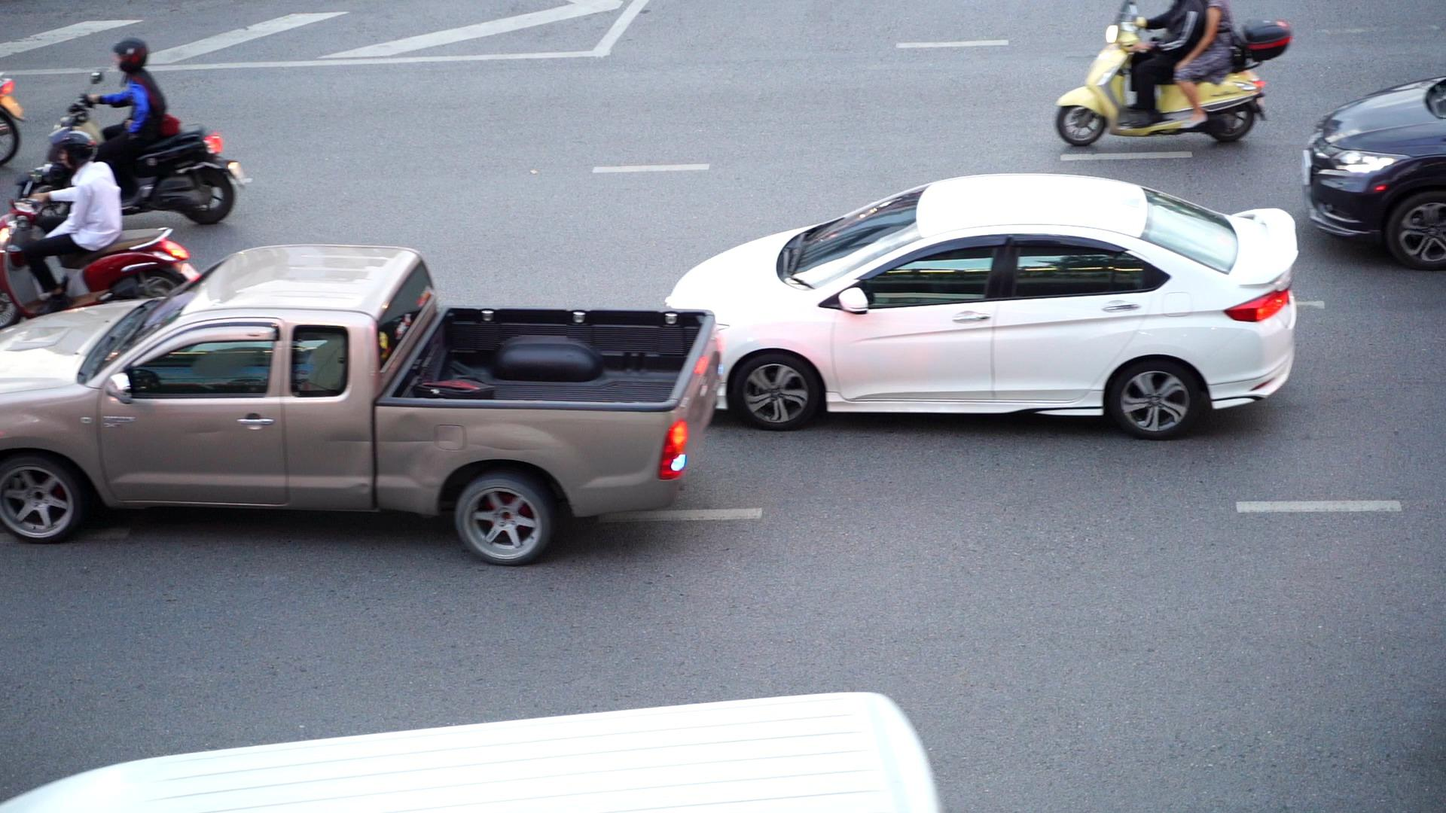driver: (15, 36, 248, 226), (0, 126, 200, 329), (1055, 0, 1293, 148)
helmet: (47, 126, 95, 171), (112, 37, 148, 73)
